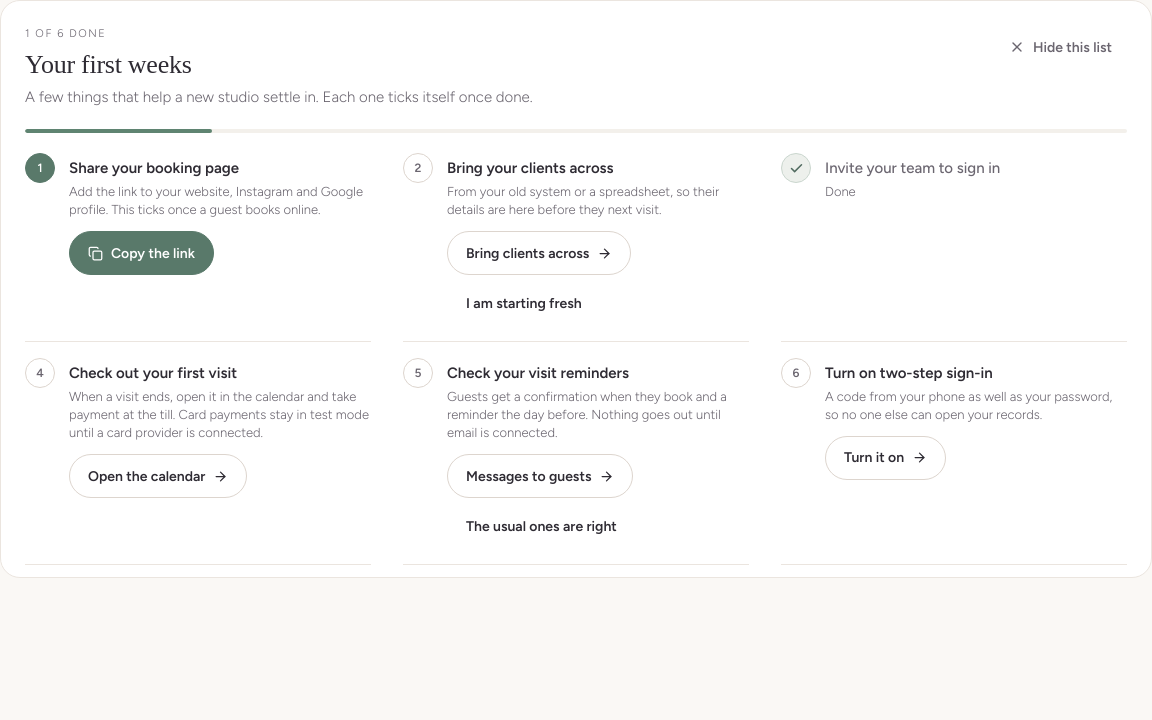
it: Your first weeks › ticks inviting the team when someone else is asked, and takes "I work on my own"
This screenshot has width=1152, height=720.
Expected: the text "1 of 6 done" is shown, [25,27,106,40]
Expected: the list item "Invite your team to sign in" shows "Done", [825,184,856,199]
Click the button "I am starting fresh": (524, 303) [447,281,601,325]
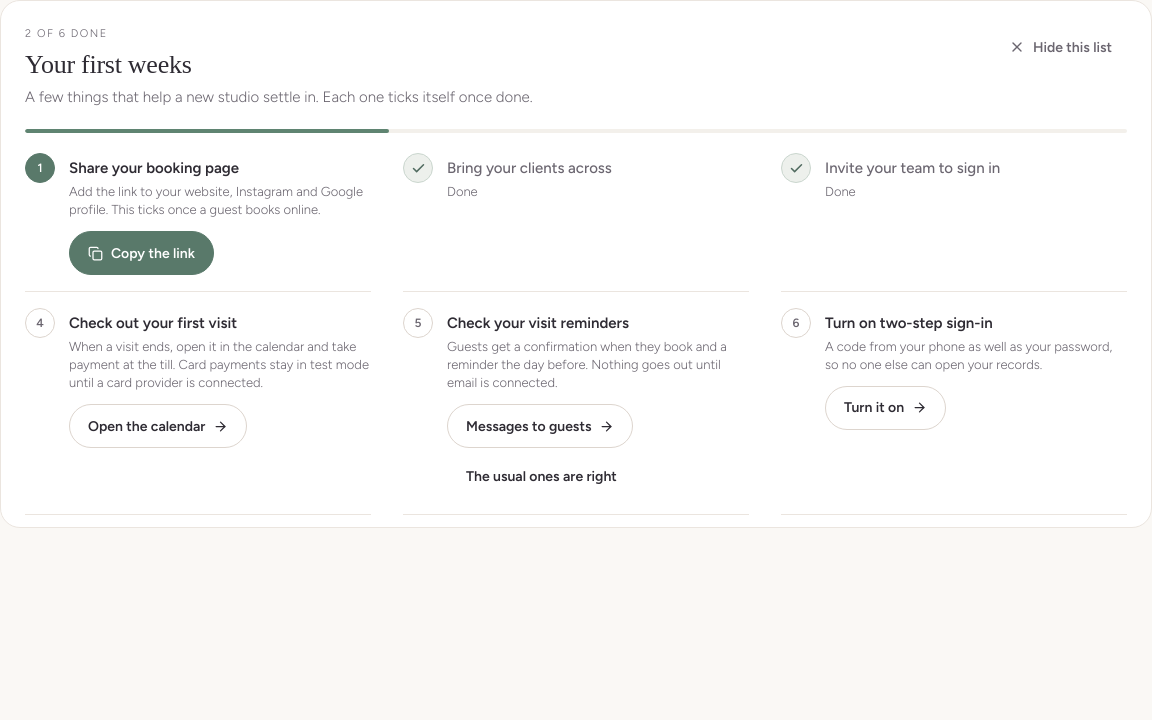
Now the list item "Bring your clients across" shows "Done", box [447,184,478,199]
Now the text "2 of 6 done" is shown, box [25,27,108,40]
